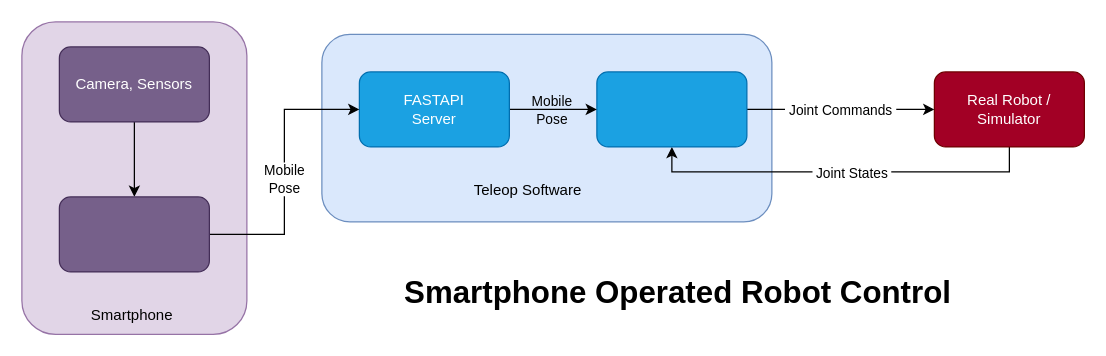
The diagram is 1106 pixels wide and 356 high, and some of its shapes have lost their labels. Here are the shapes that lost their labels. From the top down, the centre of each, then its label:
(671,109): Teleop Controller
(133,234): WebXR Web-App (No Insatallation)
